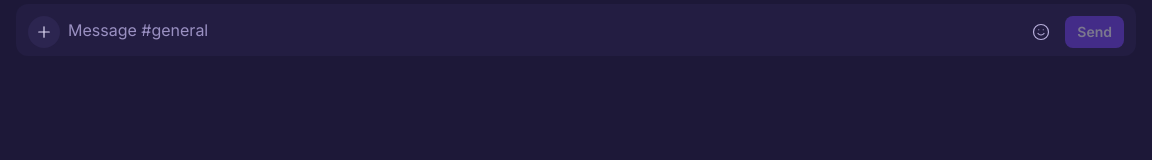
Test: typing "/" suggests /imagine; picking it fills the box
Type "/" into the text box labelled "Message #general" at (543, 30), box [68,12,1017,48]
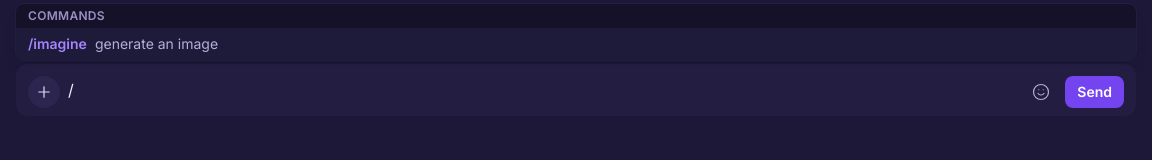
Press the mouse on the button with aria-label "/imagine — generate an image" at (57, 44), box [16,28,1136,60]
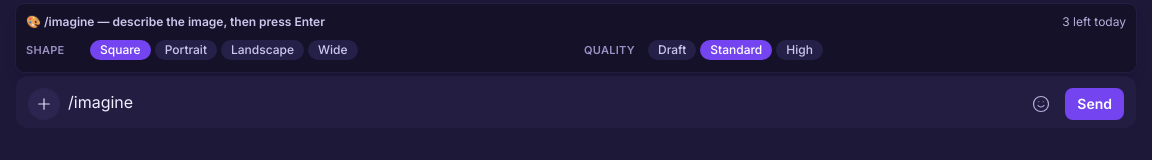
Result: the text box named "Message #general" holds "/imagine "
Result: the element named "Image options" is shown at [16,4,1136,72]
Replace the text in the text box named "Message #general" with "/im" at (543, 102), box [68,84,1017,120]
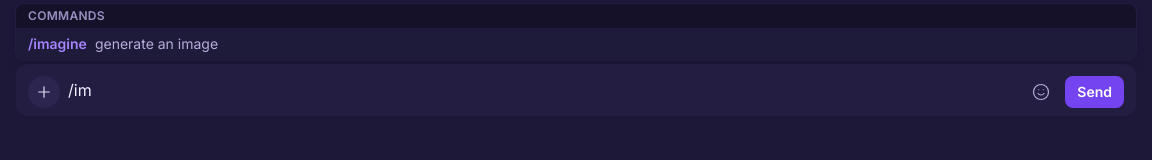
Press Enter in the text box named "Message #general", box [68,72,1017,108]
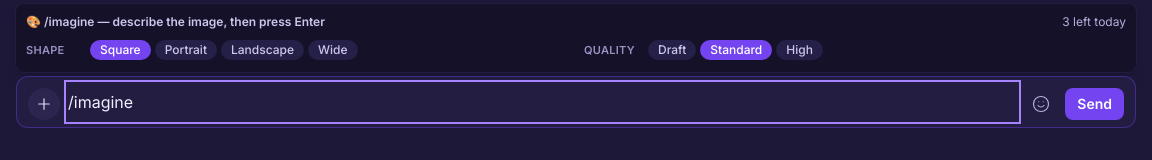
Result: the text box named "Message #general" holds "/imagine " at [68,84,1017,120]
